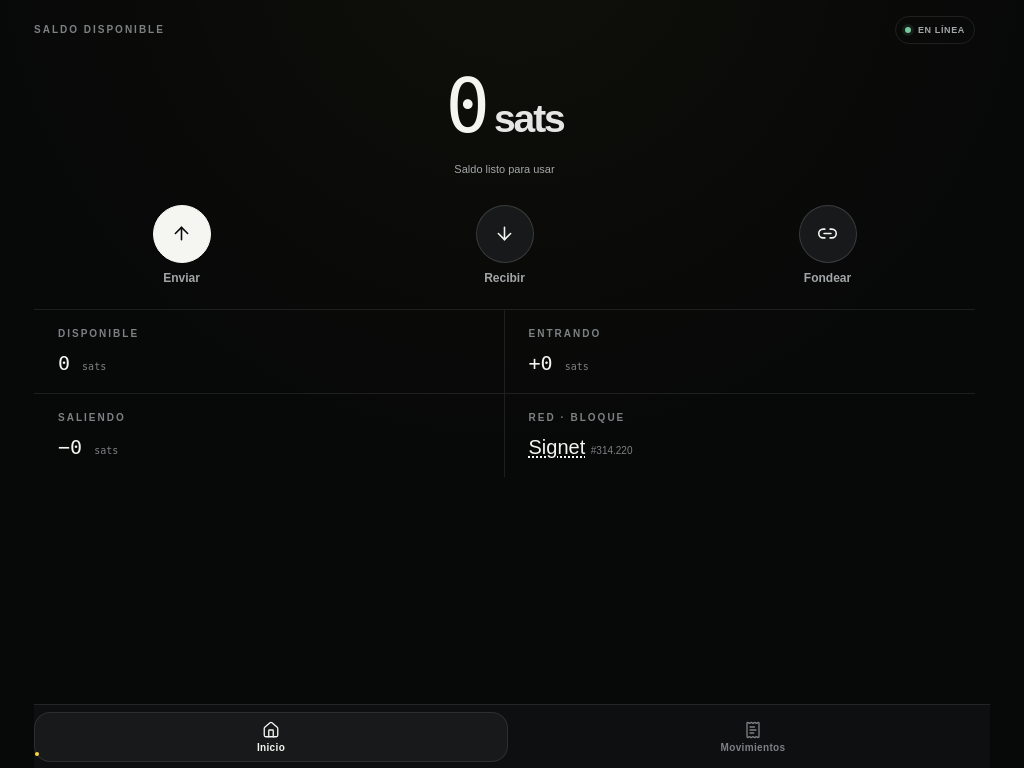
Test: Dashboard receive flow › rejects out-of-range Lightning and on-chain amounts before submission
This screenshot has width=1024, height=768.
Click the button "Recibir".
click(504, 246)  # box [357,205,652,287]
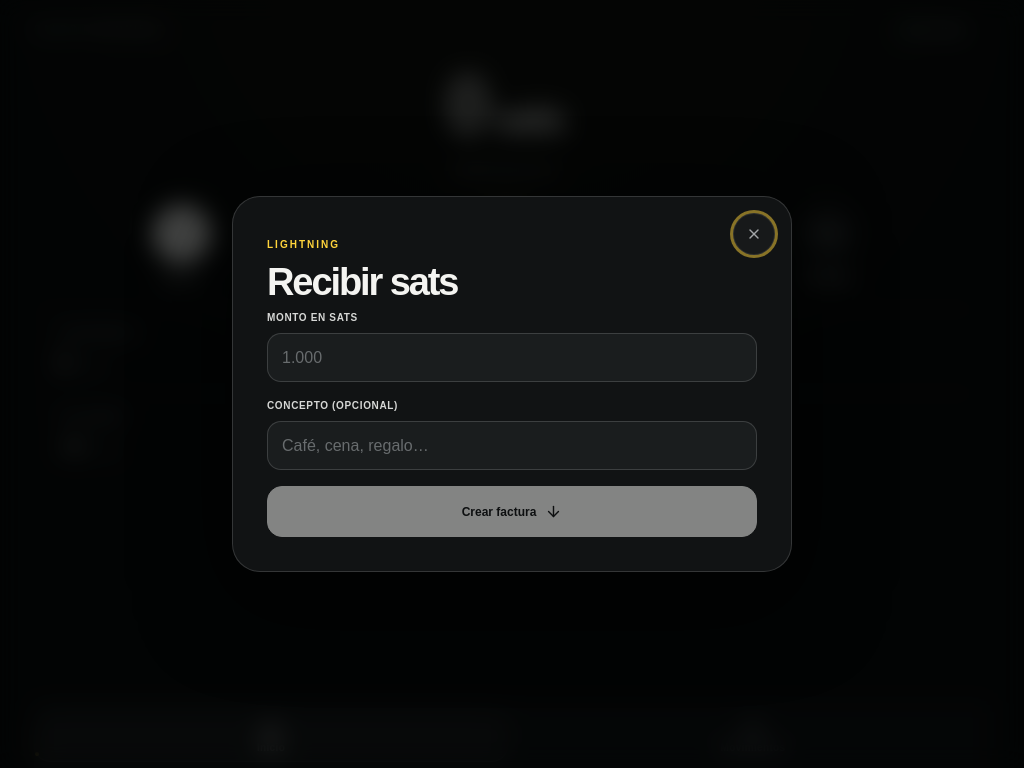
Type "9999999999999999" into the field labelled "Monto en sats".
click(512, 358); type("9999999999999999")  # box [267,333,757,382]
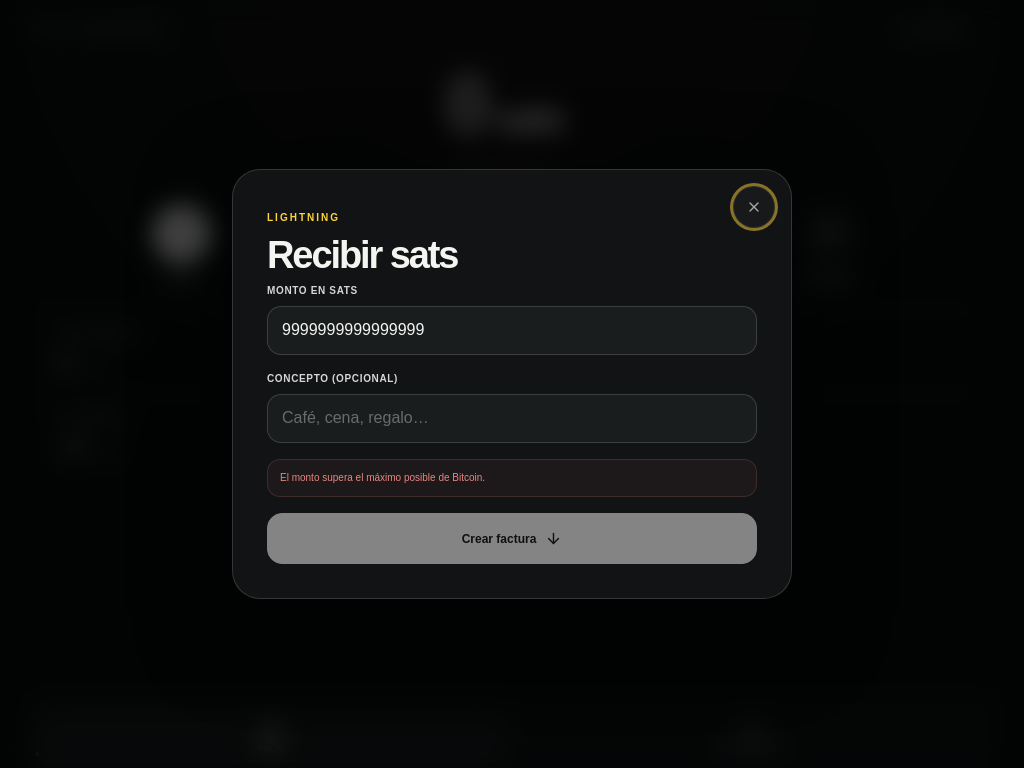
Result: the button "Crear factura" is disabled at [267,513,757,564]
Result: the message shows "supera el máximo posible" at [280,472,485,483]
Click the button named "Cerrar".
click(754, 207)  # box [733,186,775,228]
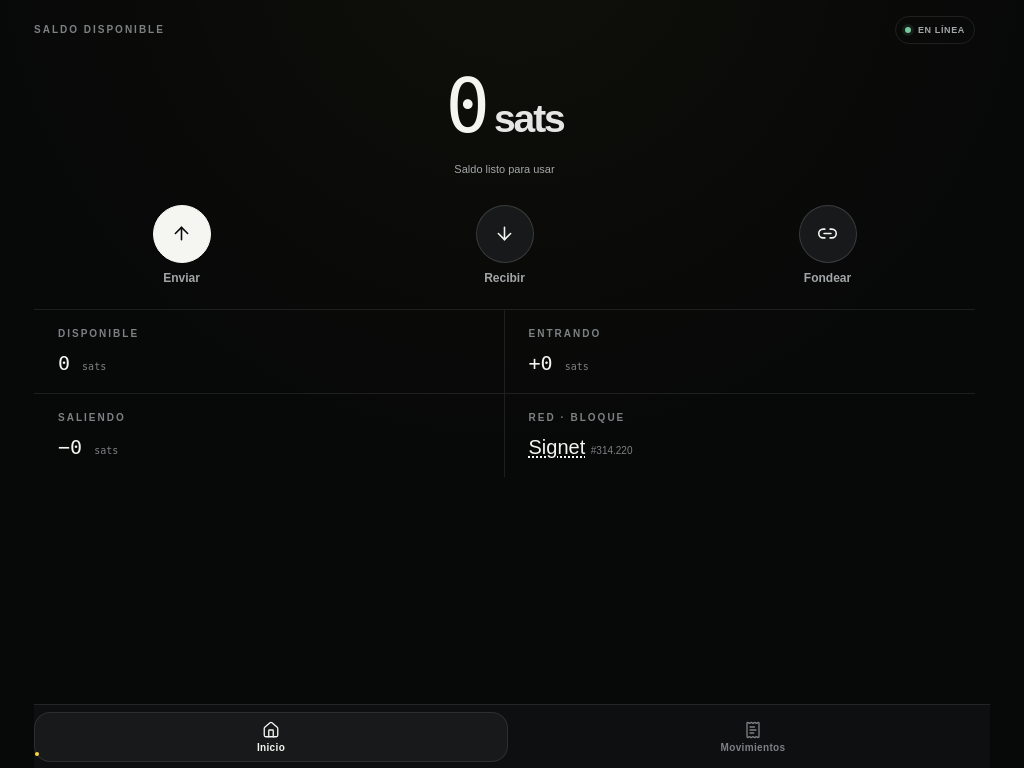
Click the button "Enviar".
click(182, 246)  # box [34,205,329,287]
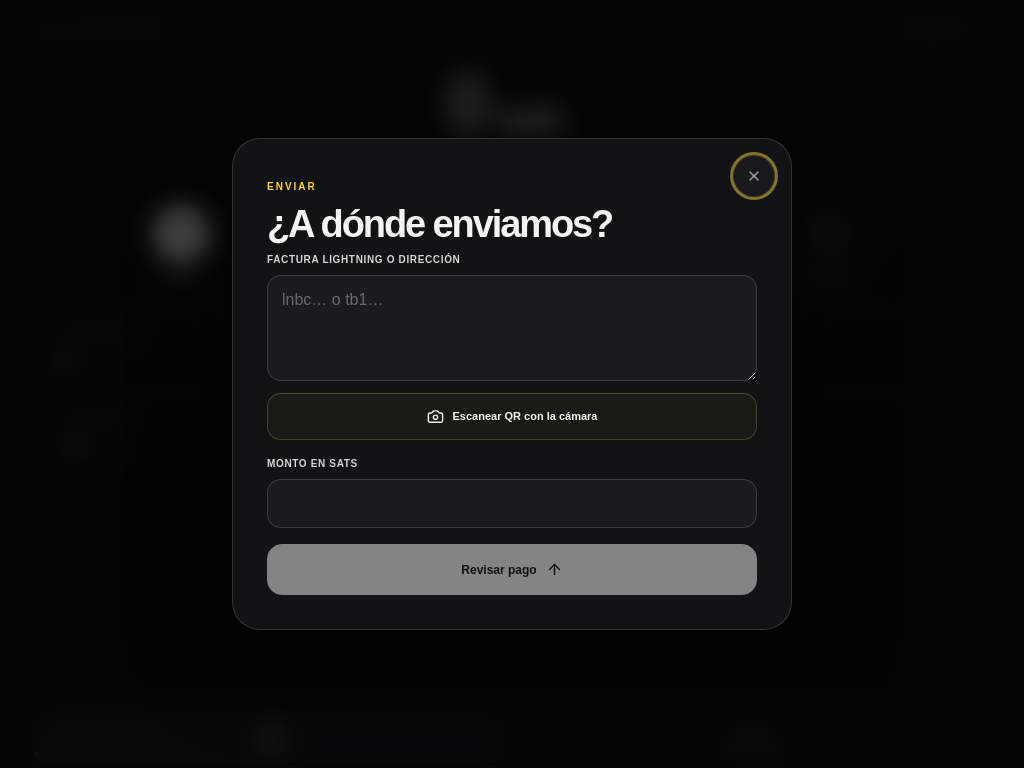
Type "tb1qdestination" into the text box labelled "Factura Lightning o dirección".
click(512, 328); type("tb1qdestination")  # box [267,275,757,381]
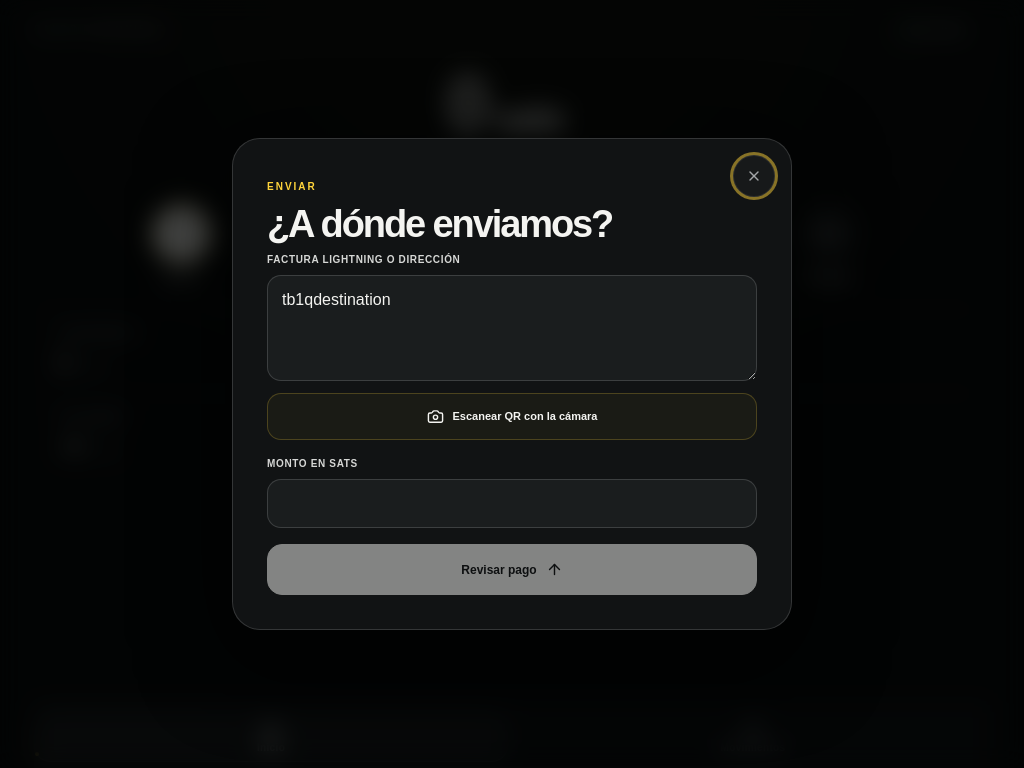
Type "9999999999999999" into the field labelled "Monto en sats".
click(512, 504); type("9999999999999999")  # box [267,479,757,528]
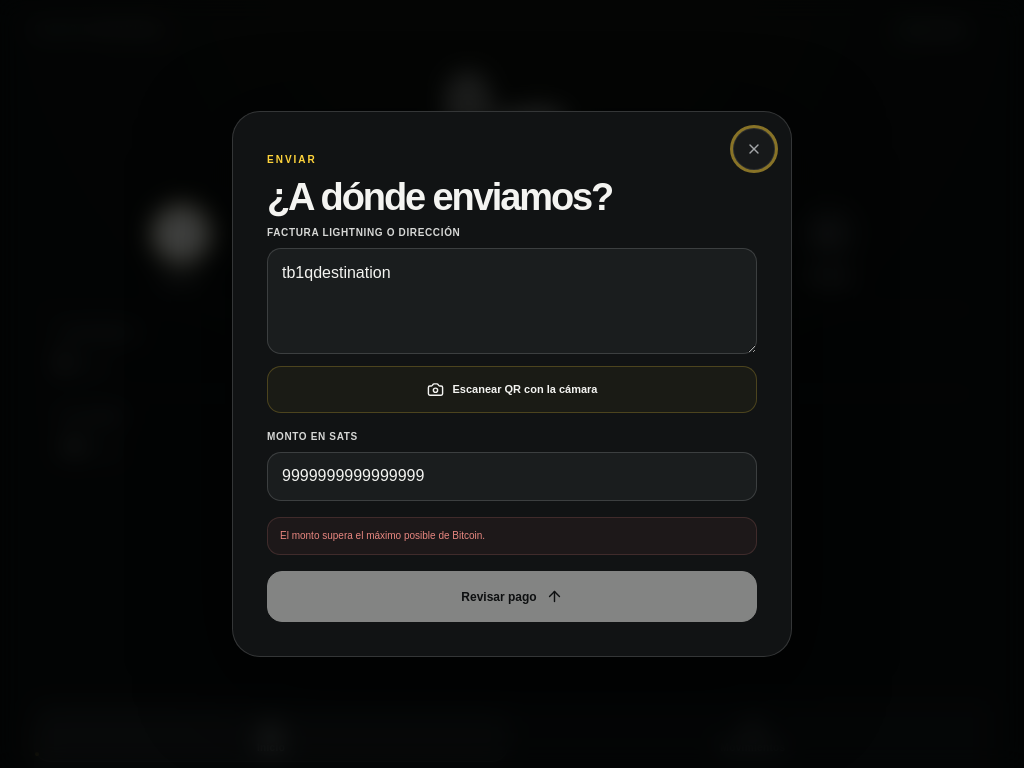
Result: the button "Revisar pago" is disabled at [267,571,757,622]
Result: the message shows "supera el máximo posible" at [280,530,485,541]
